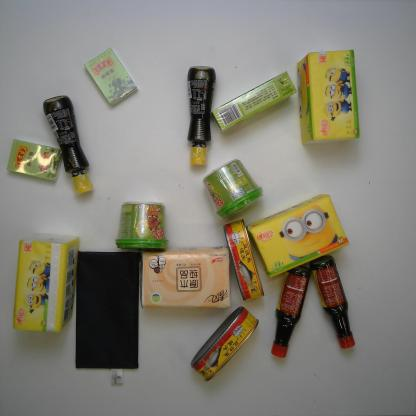Candy: (82, 46, 137, 106), (5, 137, 63, 182)
Canned Food: (189, 304, 260, 382), (221, 218, 265, 302)
Instant Drink: (212, 70, 298, 134), (201, 157, 265, 219), (114, 199, 170, 252)
Seasoner: (41, 94, 98, 195), (309, 255, 356, 349), (270, 266, 312, 359), (185, 64, 216, 170)
Stationery: (75, 250, 144, 385)
Tissue: (246, 193, 351, 278), (11, 233, 79, 334), (296, 47, 362, 145), (139, 246, 235, 311)
